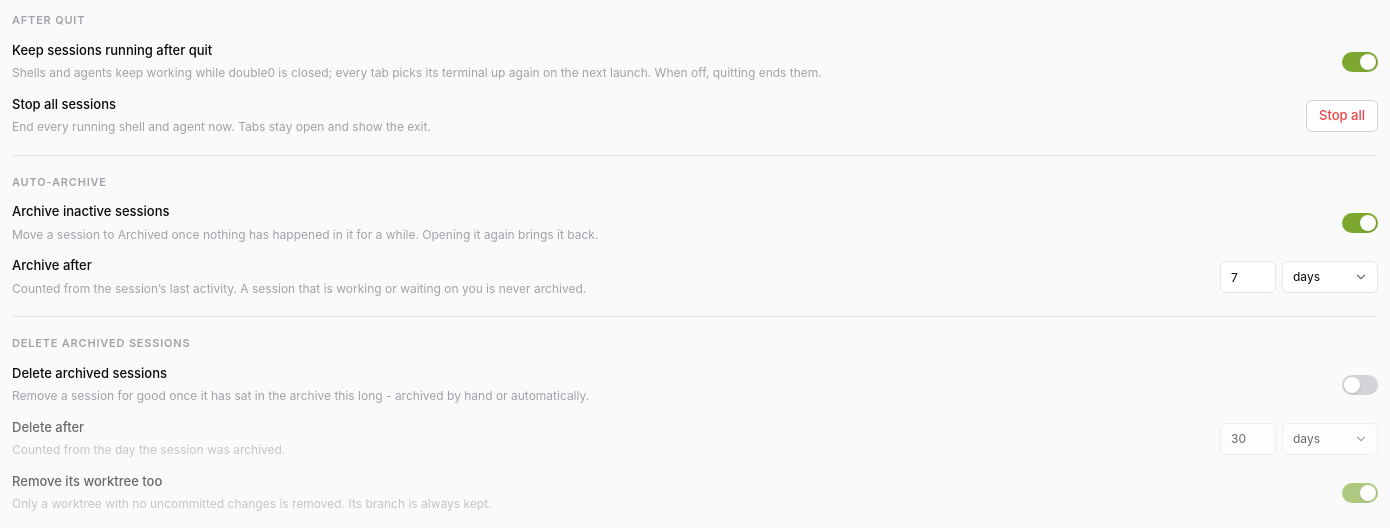
Test: SessionsSettingsSection › commits the amount on blur, clamped - never per keystroke
Later steps or results of the test are not shown.
Step 1. Clear the field named "Archive after amount" → (1248, 277), box [1220,261,1276,293]
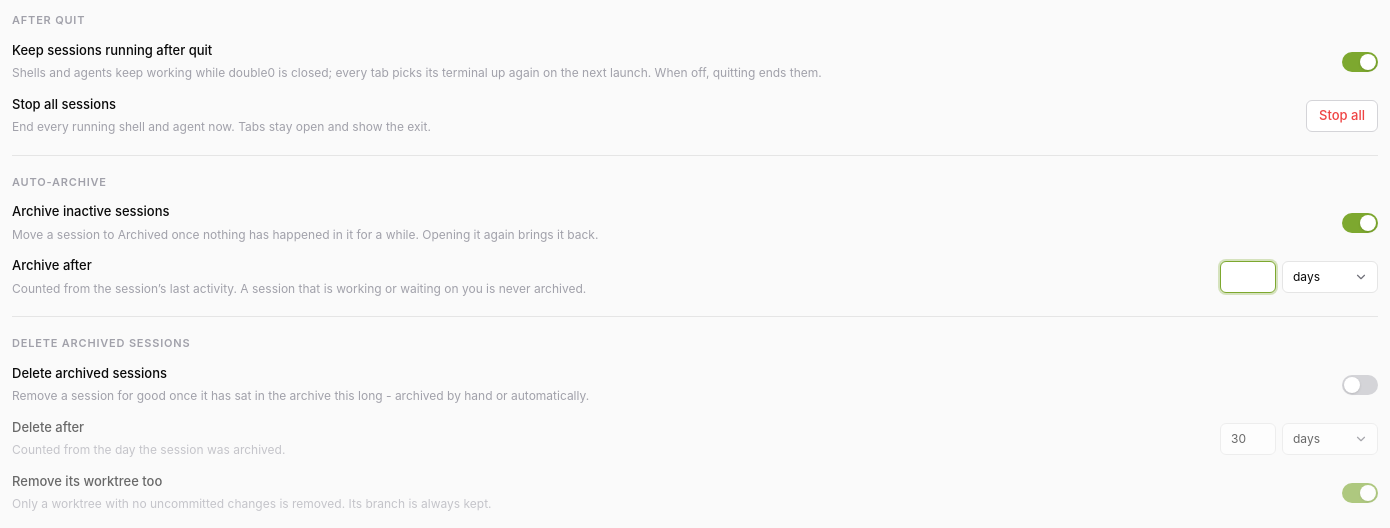
Step 2. Type keys "5000"
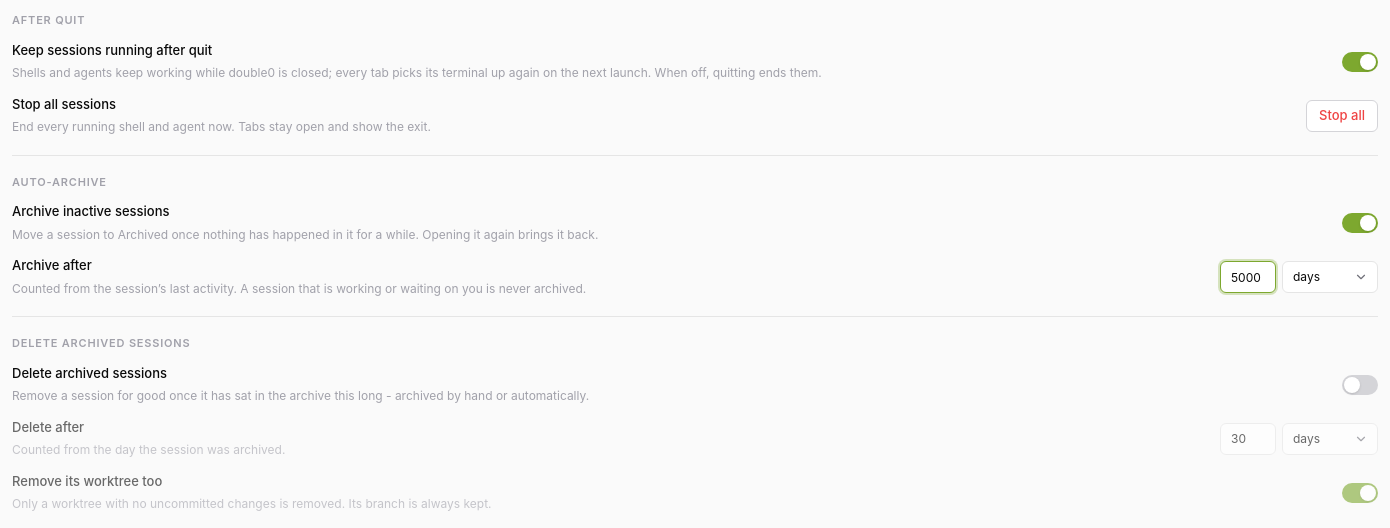
Step 3. Press Tab
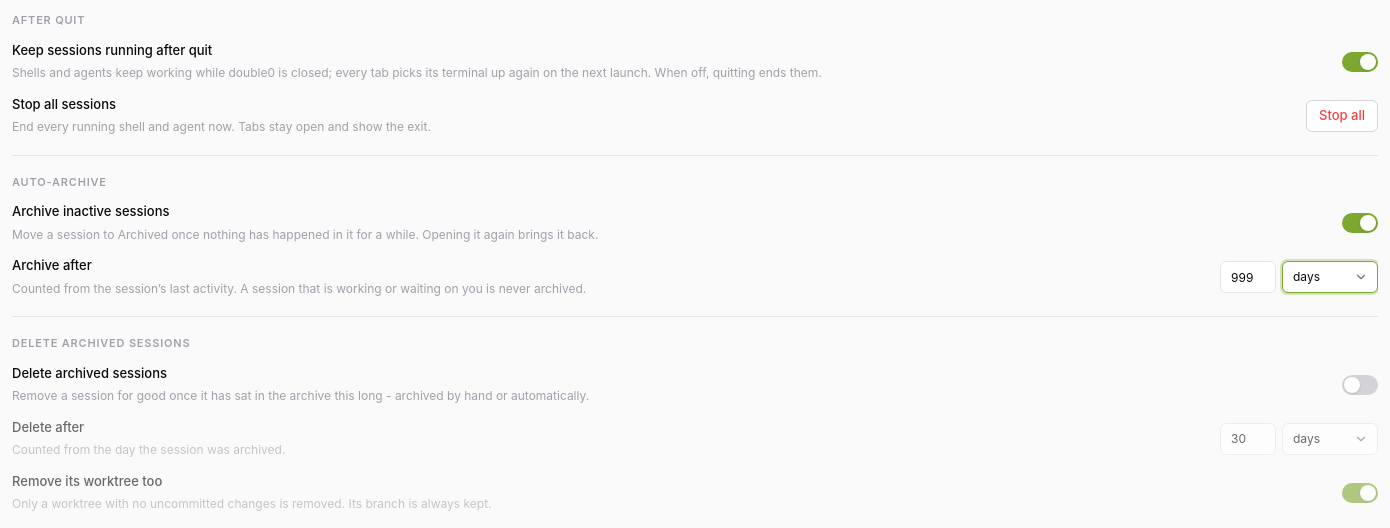
Expected: the field named "Archive after amount" holds "999", [1220,261,1276,293]
